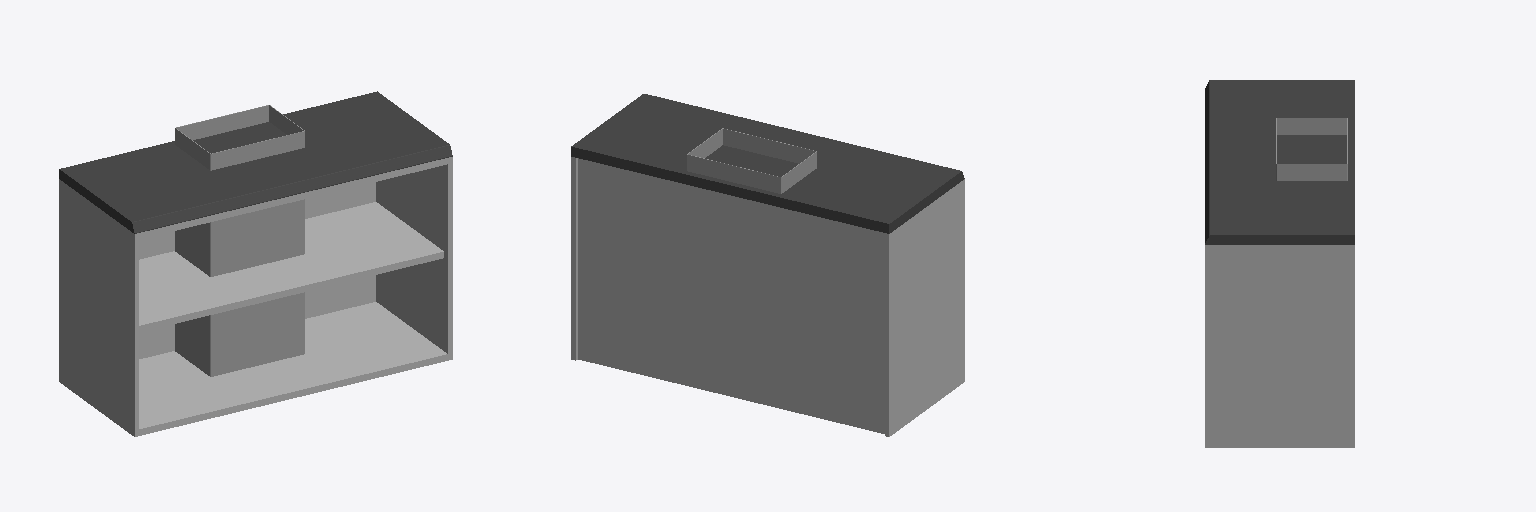
Rendered from HoodCabinet100.obj.
The picture shows the model from 3 angles: view 1: azimuth 30°, elevation 25°; view 2: azimuth 150°, elevation 25°; view 3: azimuth 270°, elevation 25°; orthographic projection.
Visible parts, largest first — view 1: frame, top, shelf, duct1, back, duct2; view 2: back, top, frame, duct2; view 3: frame, top, duct2.
Part boxes in pixels (left/top/right/bottom): frame: left=59, top=157, right=452, bottom=436; top: left=59, top=91, right=452, bottom=233; shelf: left=139, top=202, right=443, bottom=332; duct1: left=175, top=199, right=304, bottom=376; back: left=139, top=182, right=375, bottom=358; duct2: left=175, top=105, right=304, bottom=170; back: left=578, top=158, right=884, bottom=433; top: left=571, top=94, right=964, bottom=233; frame: left=571, top=157, right=964, bottom=436; duct2: left=687, top=128, right=816, bottom=193; frame: left=1205, top=245, right=1354, bottom=447; top: left=1205, top=80, right=1354, bottom=244; duct2: left=1276, top=118, right=1347, bottom=180.
Bounding box in the file's own units: 100 × 69 × 41.